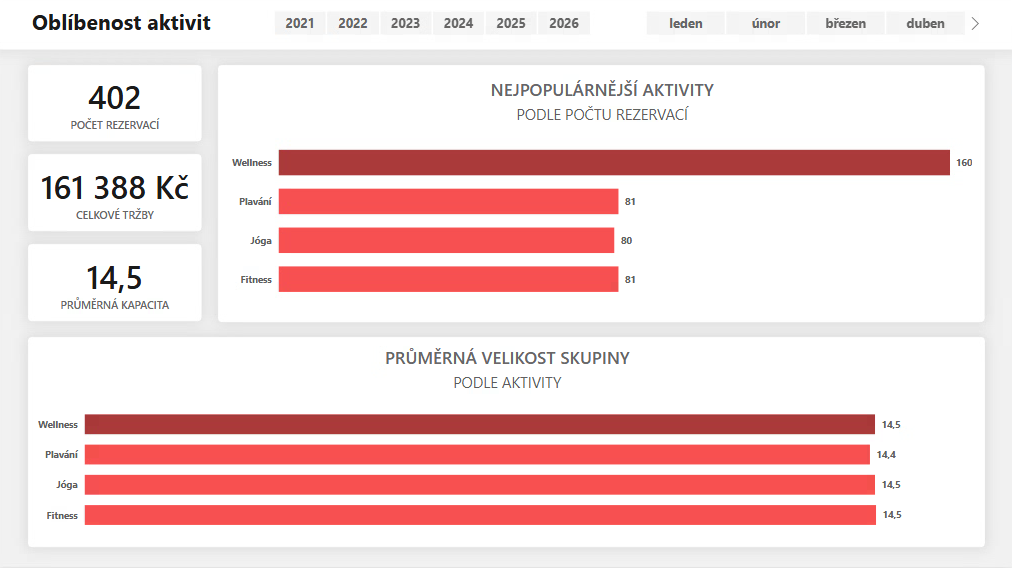

The dashboard page shown, as its layout file describes it:
{"tool":"powerbi","page":{"name":"Oblíbenost aktivit","canvas":[1280,720],"ordinal":0},"visuals":[{"type":"clusteredBarChart","title":"PRŮMĚRNÁ VELIKOST SKUPINY","fields":{"Category":["Aktivity.Typ"],"Y":["Rezervace.PrumernaUcastDleKapacity"]},"box":[39.6,430.7,1202,263.9],"z":1000},{"type":"clusteredBarChart","title":"NEJPOPULÁRNĚJŠÍ AKTIVITY","fields":{"Category":["Aktivity.Typ"],"Y":["CountNonNull(Rezervace.RezervaceID)"]},"box":[278.3,88.8,963.3,322.7],"z":3000},{"type":"shape","box":[0,0,1280,69.6],"z":4000},{"type":"textbox","box":[40.8,10.8,255.5,49.2],"z":5000},{"type":"slicer","title":"ROK","fields":{"Values":["Kalendar.Rok Hierarchy.Rok"]},"box":[324.1,15.4,445.5,41.2],"z":6000},{"type":"card","title":"UNIKÁTNÍ KLIENTI","fields":{"Values":["CountNonNull(Rezervace.RezervaceID)"]},"box":[40.5,88.7,218,96.5],"z":7000},{"type":"card","title":"UNIKÁTNÍ KLIENTI","fields":{"Values":["Sum(Rezervace.Cena)"]},"box":[40.6,200.9,218,97.2],"z":8000},{"type":"card","title":"UNIKÁTNÍ KLIENTI","fields":{"Values":["Rezervace.PrumernaUcastDleKapacity"]},"box":[40.6,314.1,218,97.2],"z":9000},{"type":"slicer","title":"ROK","fields":{"Values":["Kalendar.Rok Hierarchy.Měsíc"]},"box":[791.3,15.4,449.6,40.1],"z":10000}]}

Visuals, with their boxes in screenshot pixels (x1, y1, x2, y2), scaled from the page's 1280x720 canvas onto the 1012x568 screenshot:
"PRŮMĚRNÁ VELIKOST SKUPINY" clusteredBarChart: rect(31, 340, 982, 548)
"NEJPOPULÁRNĚJŠÍ AKTIVITY" clusteredBarChart: rect(220, 70, 982, 325)
shape: rect(0, 0, 1011, 55)
textbox: rect(32, 9, 234, 47)
"ROK" slicer: rect(256, 12, 608, 45)
"UNIKÁTNÍ KLIENTI" card: rect(32, 70, 204, 146)
"UNIKÁTNÍ KLIENTI" card: rect(32, 158, 204, 235)
"UNIKÁTNÍ KLIENTI" card: rect(32, 248, 204, 324)
"ROK" slicer: rect(626, 12, 981, 44)
